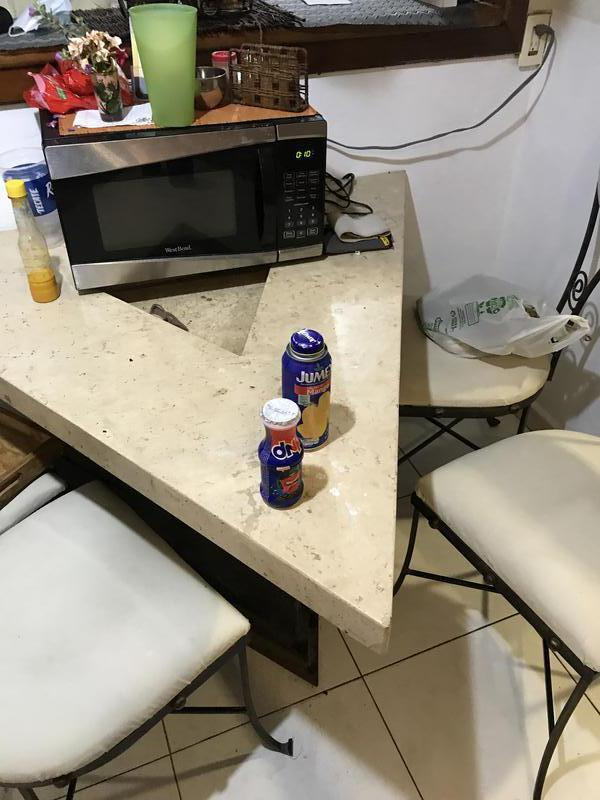danup: (256, 397, 309, 510)
jugo_jumex: (281, 328, 334, 455)
